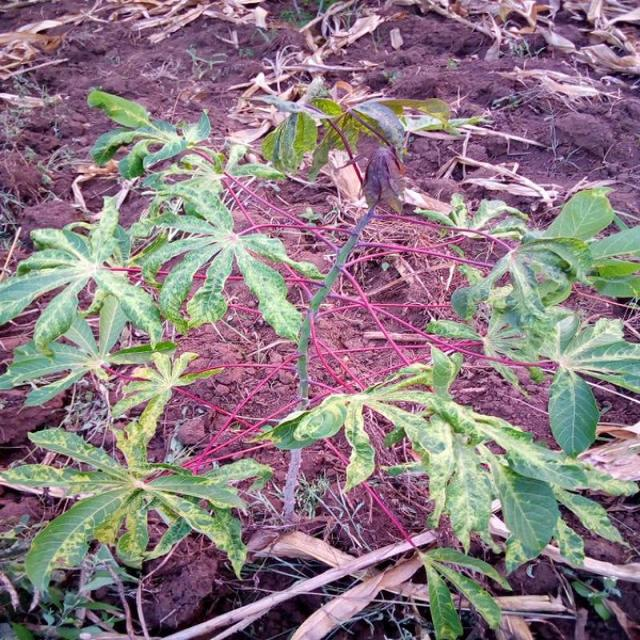cassava leaf: (0, 77, 638, 629)
